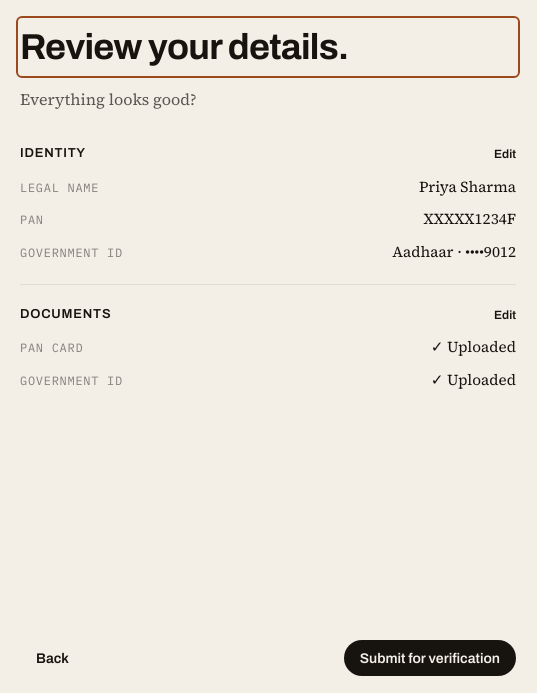
Test: FinancialVerificationFlow resume + gates › submits for verification from review
Expected: the heading "Review your details." is shown, [20,27,348,67]
Click the button "Submit for verification".
click(430, 658)  # box [344,640,516,676]
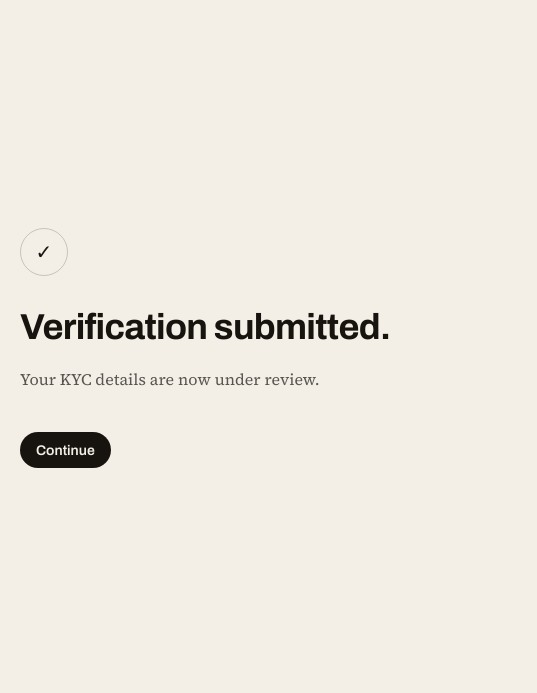
Expected: the heading "Verification submitted." is shown, [20,300,390,354]
